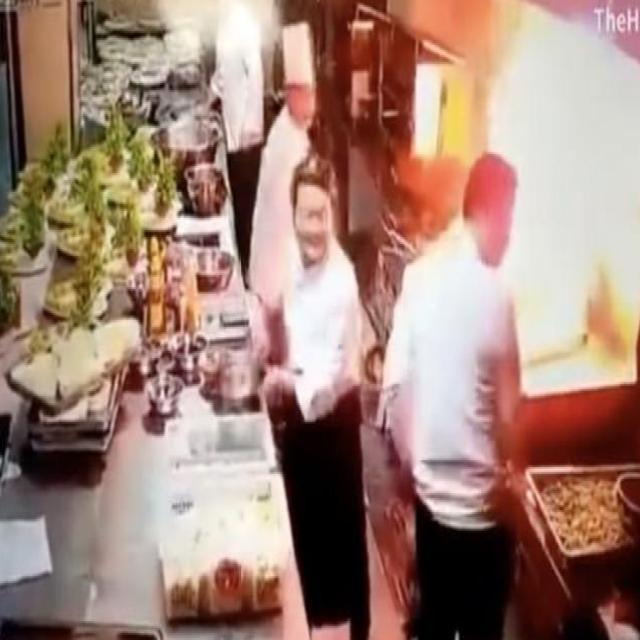smoke: (485, 0, 640, 375)
